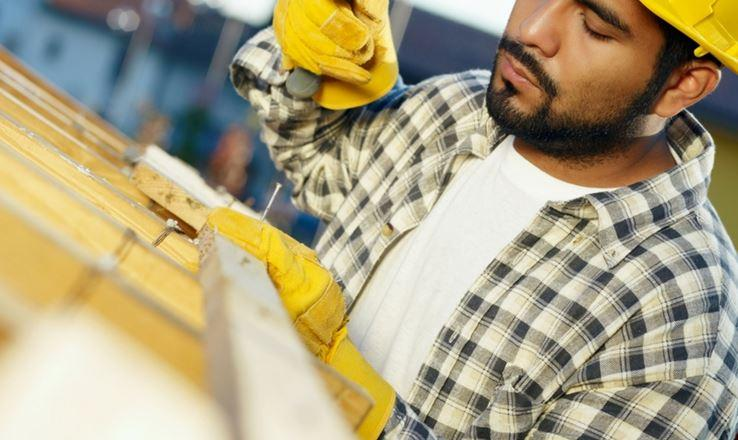helmet: (577, 1, 737, 79)
